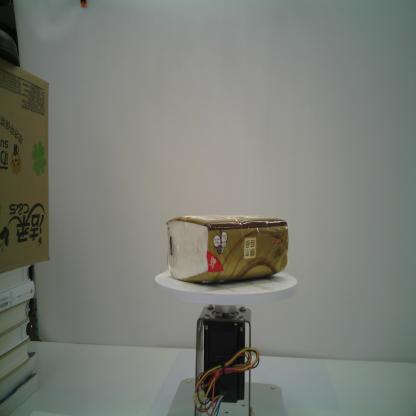Tissue: (164, 213, 290, 286)
